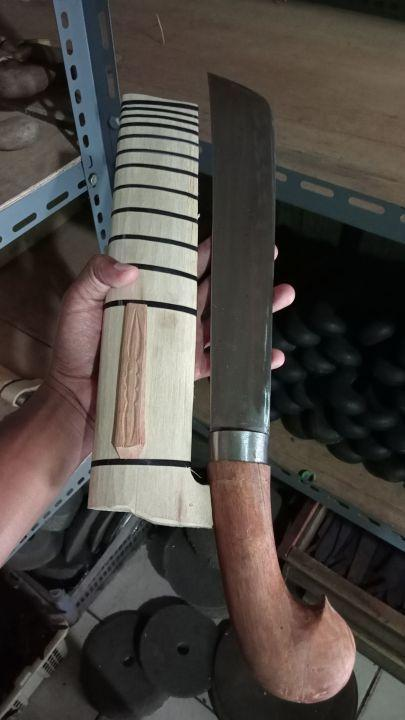facao: (209, 74, 353, 702)
